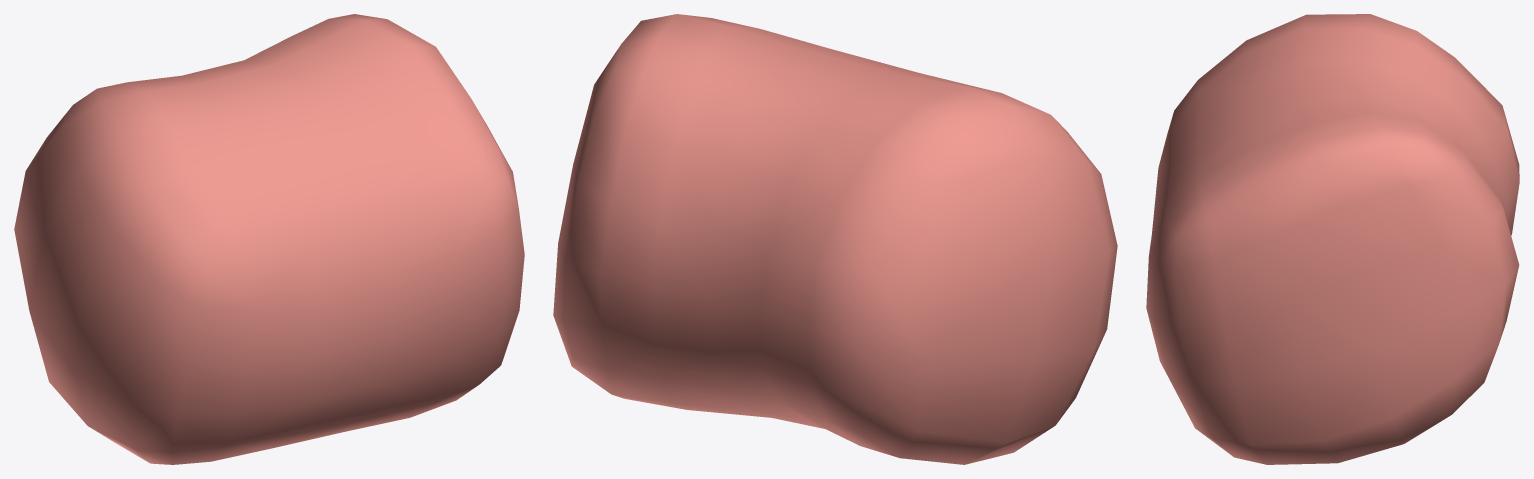
The model's file is mixamo_humanoid_surface_rightHandIndex2.fbx.
The picture shows the model from 3 angles, left to right: view 1: azimuth 30°, elevation 25°; view 2: azimuth 150°, elevation 25°; view 3: azimuth 270°, elevation 25°; orthographic projection. The views are drawn at different scales.
Parts seen in each view (by area): view 1: surface_RightHandIndex2; view 2: surface_RightHandIndex2; view 3: surface_RightHandIndex2.
Boxes of the visible parts, <box> form: surface_RightHandIndex2: <box>14,14,524,464</box>; surface_RightHandIndex2: <box>553,14,1117,464</box>; surface_RightHandIndex2: <box>1146,14,1519,464</box>.
Size of the model in its own units: 2.3 by 1.76 by 1.8.
